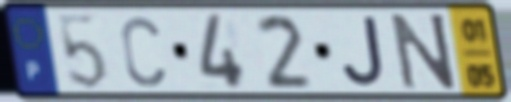2: (253, 11, 316, 91)
4: (196, 11, 248, 92)
5: (54, 11, 111, 91)
C: (117, 13, 168, 89)
J: (340, 14, 388, 89)
N: (387, 10, 460, 92)
